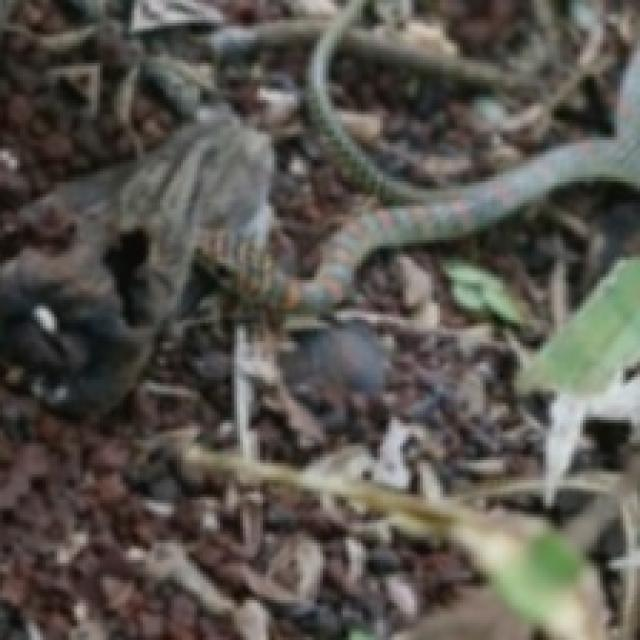paradise tree snake: (303, 0, 637, 306)
